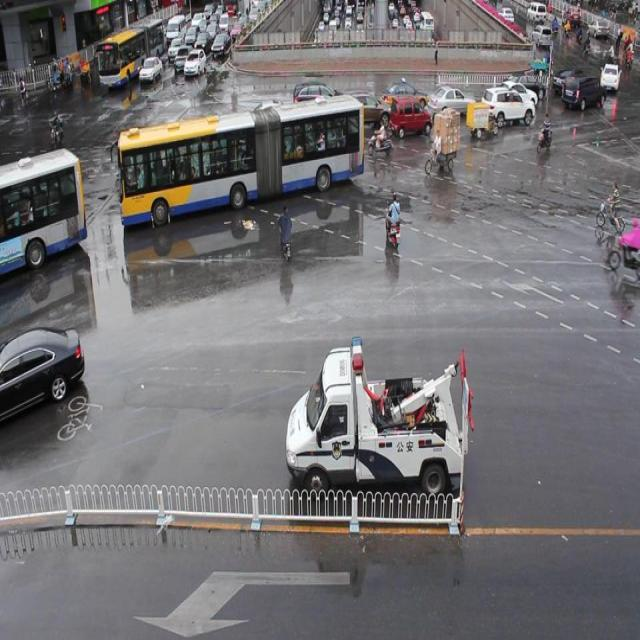bus: (285, 338, 464, 498)
car: (1, 326, 86, 415), (480, 86, 534, 124), (345, 92, 390, 130), (390, 96, 432, 135), (428, 84, 474, 119), (380, 81, 427, 111), (495, 78, 536, 109), (505, 71, 543, 100)
van: (121, 100, 362, 222)
